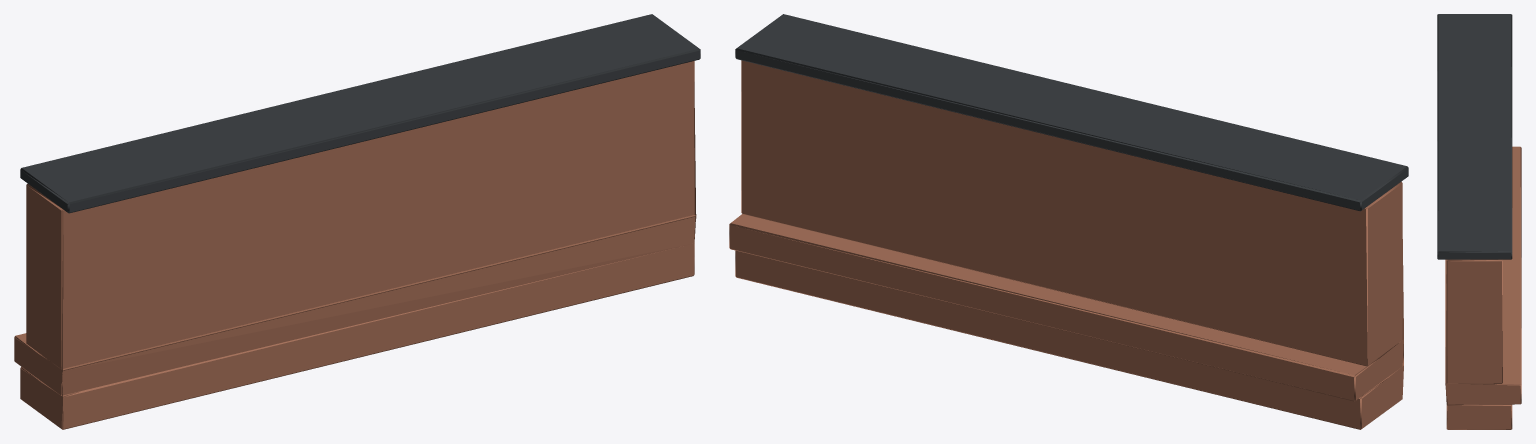
File: SM_VB_FacB_Cornice.fbx
3 renders of one model, left to right at view 1: azimuth 30°, elevation 25°; view 2: azimuth 150°, elevation 25°; view 3: azimuth 270°, elevation 25°, orthographic. The views are drawn at different scales.
Visible parts, largest first — view 1: SM_VB_FacB_Cornice; view 2: SM_VB_FacB_Cornice; view 3: SM_VB_FacB_Cornice.
Boxes of the visible parts, left/top/right/bottom form: SM_VB_FacB_Cornice: left=14, top=14, right=700, bottom=429; SM_VB_FacB_Cornice: left=729, top=14, right=1408, bottom=429; SM_VB_FacB_Cornice: left=1437, top=14, right=1521, bottom=429.
Bounding box in the file's own units: 3 × 1.05 × 0.45.
